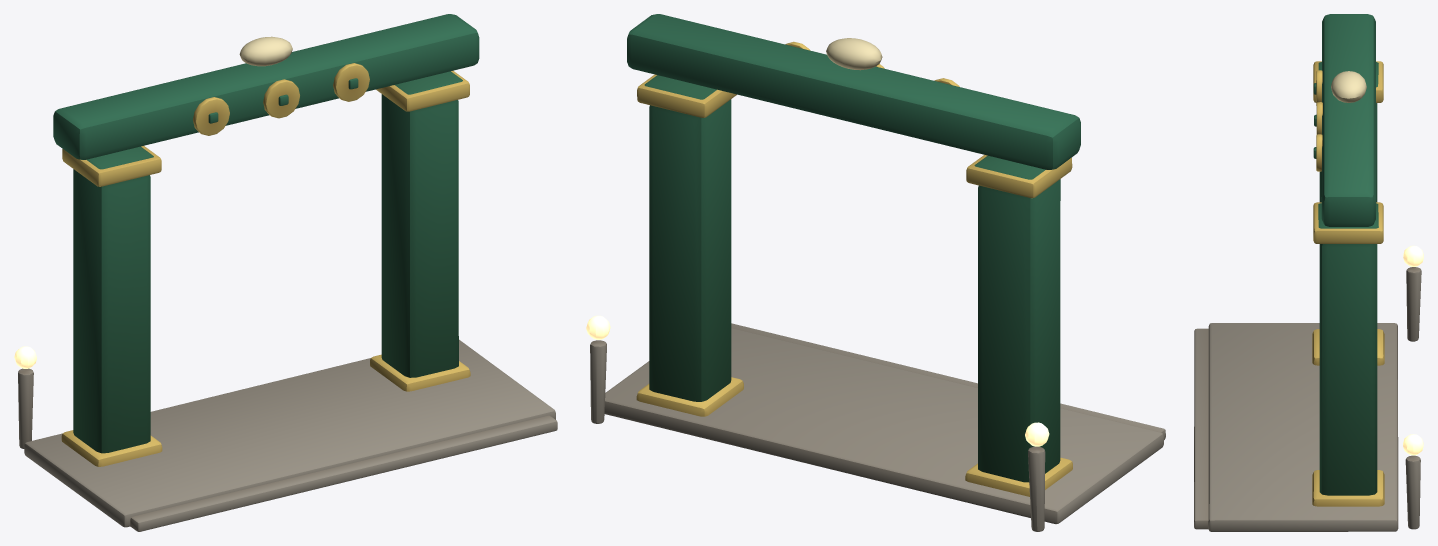
The picture shows the model from 3 angles, left to right: view 1: azimuth 30°, elevation 25°; view 2: azimuth 150°, elevation 25°; view 3: azimuth 270°, elevation 25°; orthographic projection. The views are drawn at different scales.
Visible parts, largest first — view 1: gate_27e51bab; view 2: gate_27e51bab; view 3: gate_27e51bab.
Part boxes in pixels (x1,y1,x2,y2): gate_27e51bab: (14,14,557,531); gate_27e51bab: (586,14,1165,531); gate_27e51bab: (1194,14,1423,531).
Bounding box in the file's own units: 5.2 × 4.39 × 2.55.
